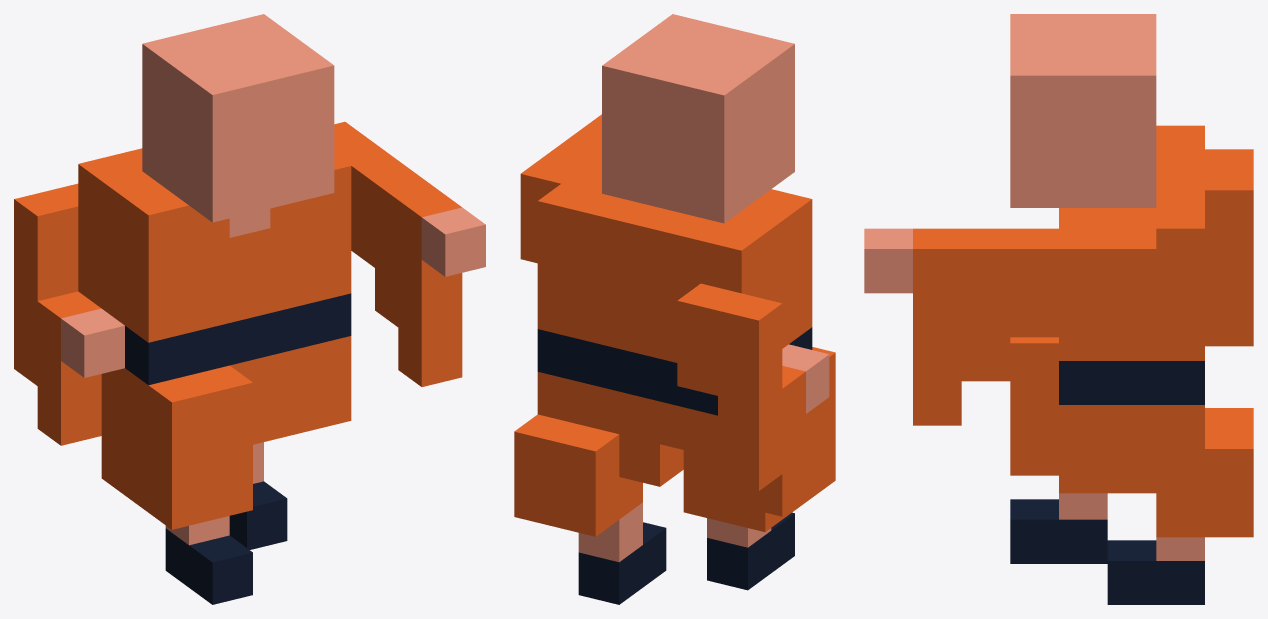
Rendered from monk_action_1.obj.
3 views of the same model, side by side, from view 1: azimuth 30°, elevation 25°; view 2: azimuth 150°, elevation 25°; view 3: azimuth 270°, elevation 25° (orthographic). The views are drawn at different scales.
Size of the model in its own units: 0.7 by 1.2 by 0.8.
Materials: 1 (1 with a texture image).
